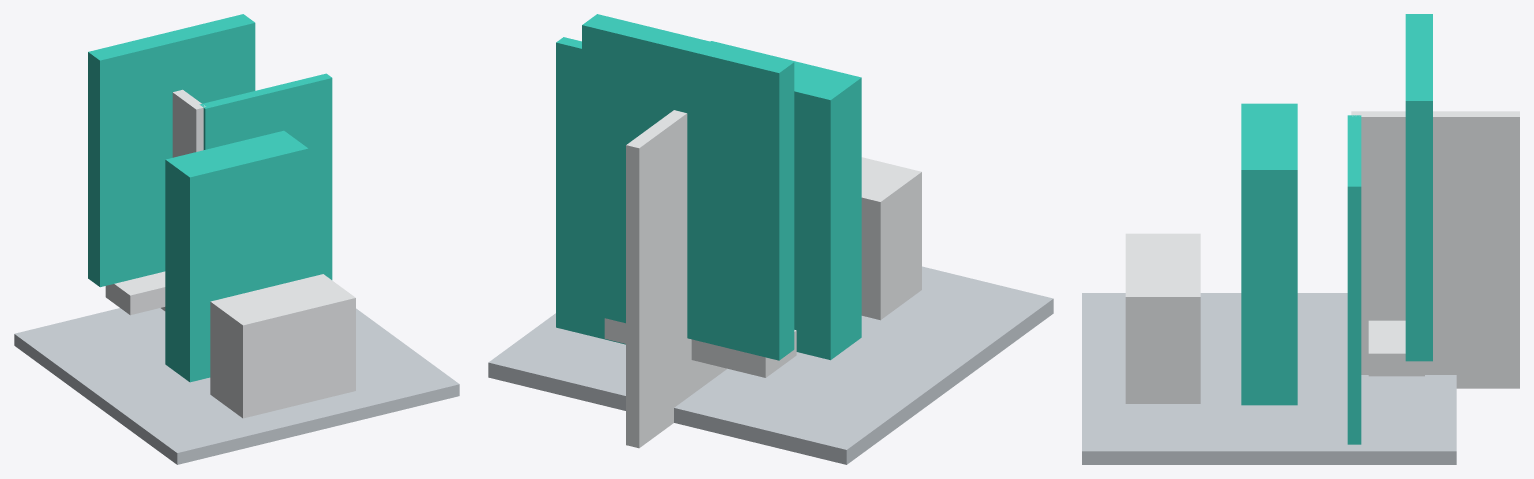
3 renders of one model, left to right at view 1: azimuth 30°, elevation 25°; view 2: azimuth 150°, elevation 25°; view 3: azimuth 270°, elevation 25°, orthographic. The views are drawn at different scales.
Visible parts, largest first — view 1: Exhibition Booth Concept; view 2: Exhibition Booth Concept; view 3: Exhibition Booth Concept.
Part boxes in pixels (<box>): Exhibition Booth Concept: <box>14,14,459,464</box>; Exhibition Booth Concept: <box>488,14,1053,464</box>; Exhibition Booth Concept: <box>1082,14,1519,464</box>.
Bounding box in the file's own units: 3 × 2.9 × 3.51.
